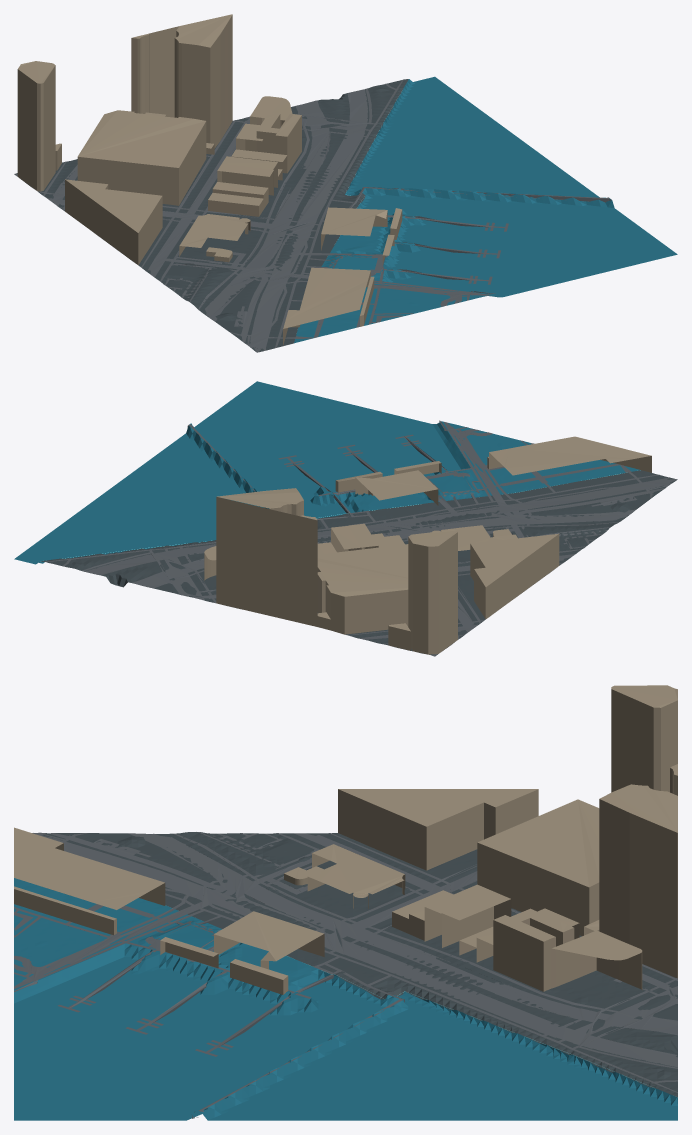
Rendered from epsg26910-1441-10893.lod1-4m.glb.
The picture shows the model from 3 angles, top to bottom: view 1: azimuth 30°, elevation 25°; view 2: azimuth 150°, elevation 25°; view 3: azimuth 270°, elevation 25°; orthographic projection. The views are drawn at different scales.
Parts seen in each view (by area): view 1: epsg26910-1441-10893-lod1; view 2: epsg26910-1441-10893-lod1; view 3: epsg26910-1441-10893-lod1.
Boxes of the visible parts, box(x1,y1,x2,y2) form: epsg26910-1441-10893-lod1: box(14, 14, 677, 352); epsg26910-1441-10893-lod1: box(14, 381, 677, 656); epsg26910-1441-10893-lod1: box(14, 685, 677, 1120).
Size of the model in its own units: 384 by 100 by 384.
